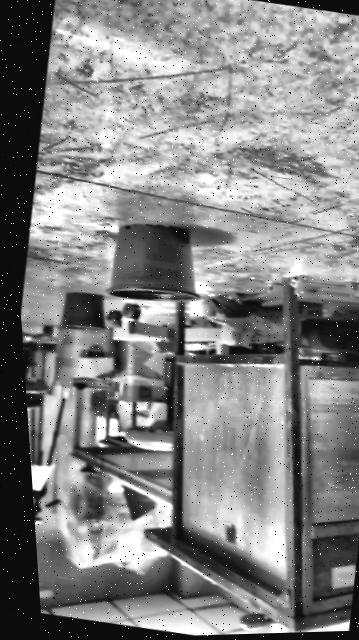pot: (101, 216, 210, 312), (56, 289, 110, 336)
